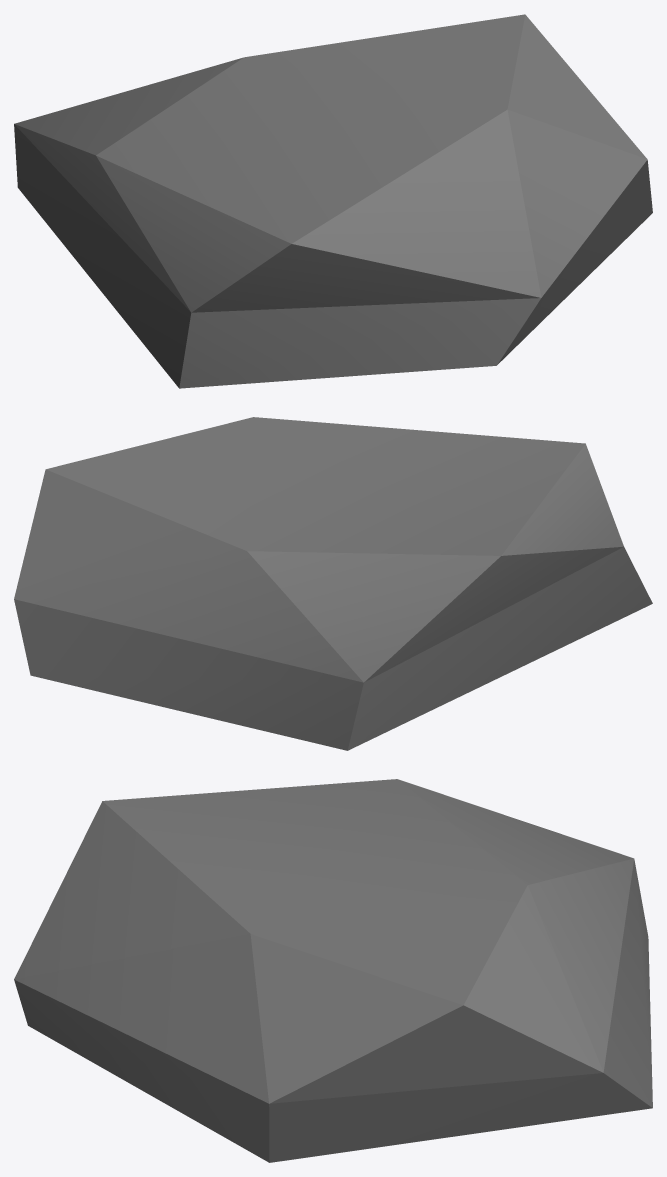
File: stone_4.glb
The picture shows the model from 3 angles, top to bottom: view 1: azimuth 30°, elevation 25°; view 2: azimuth 150°, elevation 25°; view 3: azimuth 270°, elevation 25°; orthographic projection. The views are drawn at different scales.
Visible parts, largest first — view 1: stone_4; view 2: stone_4; view 3: stone_4.
Part boxes in pixels (bbox=[...]): stone_4: bbox=[14, 14, 652, 388]; stone_4: bbox=[14, 417, 652, 750]; stone_4: bbox=[14, 779, 652, 1162].
Size of the model in its own units: 0.5953 by 0.157 by 0.5994.
1 material, 1 textured.
